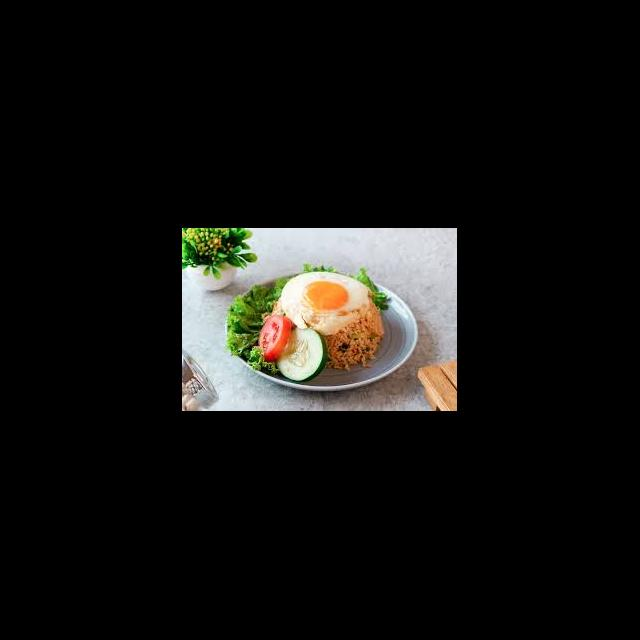food_waste: (272, 274, 385, 370)
